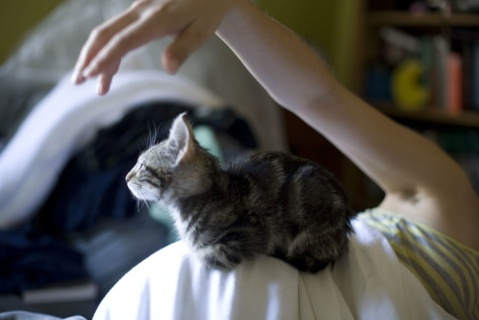Cat: (124, 112, 357, 272)
